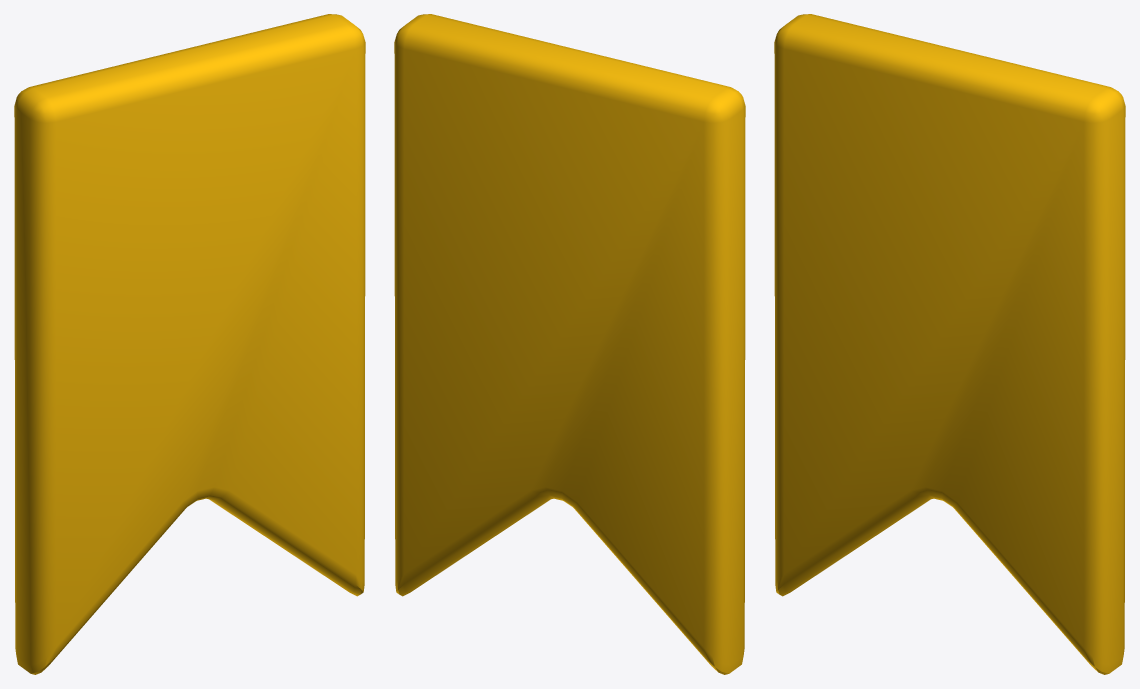
The model's file is marcador.glb.
3 views of the same model, side by side, from view 1: azimuth 30°, elevation 25°; view 2: azimuth 150°, elevation 25°; view 3: azimuth 330°, elevation 25° (orthographic).
Visible parts, largest first — view 1: marcador_corpo; view 2: marcador_corpo; view 3: marcador_corpo.
Part boxes in pixels (left/top/right/bottom): marcador_corpo: left=14, top=14, right=365, bottom=674; marcador_corpo: left=394, top=14, right=745, bottom=674; marcador_corpo: left=774, top=14, right=1125, bottom=674.
Size of the model in its own units: 0.6 by 0.9891 by 0.1.
